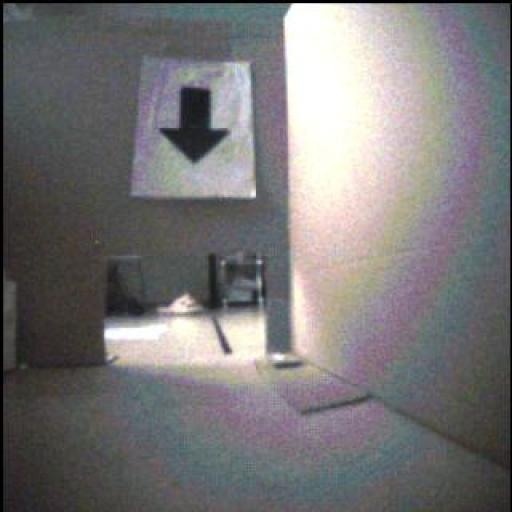arrow: (161, 89, 230, 163)
